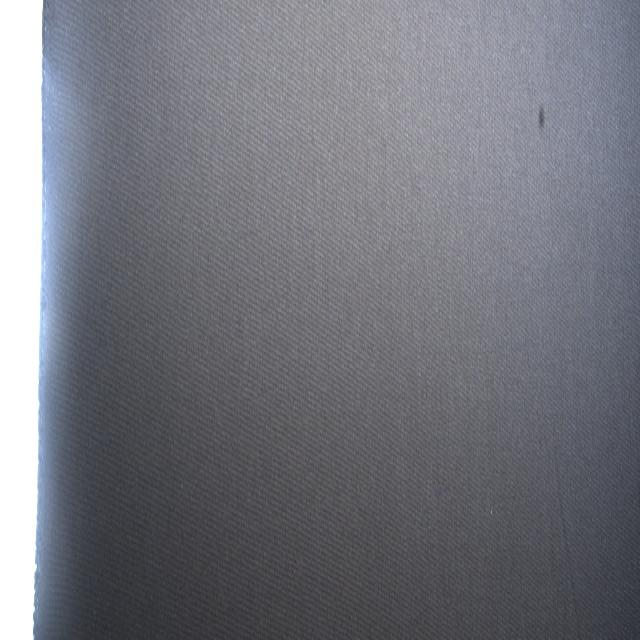crease: (548, 410, 585, 640)
